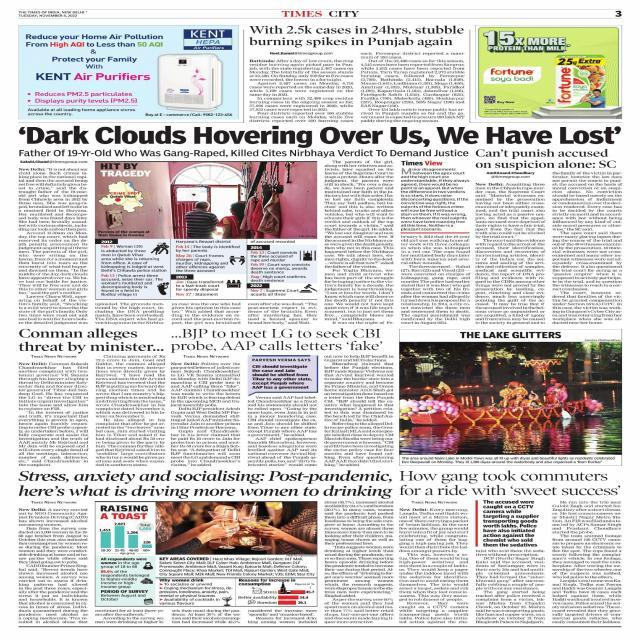Article: (15, 121, 630, 326), (17, 468, 397, 630), (15, 327, 396, 470), (400, 467, 627, 627), (248, 22, 468, 122)
Body: (324, 160, 396, 325), (18, 167, 89, 325), (552, 170, 624, 324), (474, 182, 546, 326), (551, 500, 622, 625), (398, 506, 471, 624), (324, 501, 394, 624), (18, 507, 88, 624), (95, 354, 166, 468), (323, 355, 395, 467), (359, 50, 466, 124), (18, 361, 90, 467), (170, 361, 242, 467), (248, 59, 355, 123), (399, 235, 472, 325), (475, 549, 545, 624), (247, 395, 318, 467), (172, 302, 242, 325), (248, 302, 318, 325), (94, 302, 166, 324), (170, 608, 242, 624), (95, 609, 164, 625), (248, 609, 318, 624)
Date: (19, 14, 80, 18)
Heading: (18, 469, 620, 499), (21, 124, 622, 148), (171, 328, 382, 354), (250, 24, 464, 48), (16, 328, 165, 354)
Highlights: (18, 150, 611, 160), (400, 166, 470, 232), (483, 499, 539, 546), (158, 578, 234, 606), (99, 244, 168, 272), (100, 558, 154, 590), (251, 364, 312, 390), (476, 160, 616, 170), (100, 274, 163, 296), (175, 254, 229, 272), (100, 590, 153, 606), (458, 331, 563, 338), (250, 262, 311, 274), (99, 505, 147, 519), (175, 280, 226, 292), (250, 250, 298, 262), (238, 578, 296, 586), (175, 245, 241, 252), (249, 274, 306, 282), (249, 289, 299, 296), (175, 292, 220, 296)
Image: (400, 342, 622, 454), (19, 24, 238, 120), (96, 162, 316, 240), (478, 27, 618, 118), (156, 501, 318, 555), (98, 521, 153, 554), (238, 586, 317, 606)
Name: (280, 10, 360, 18)
